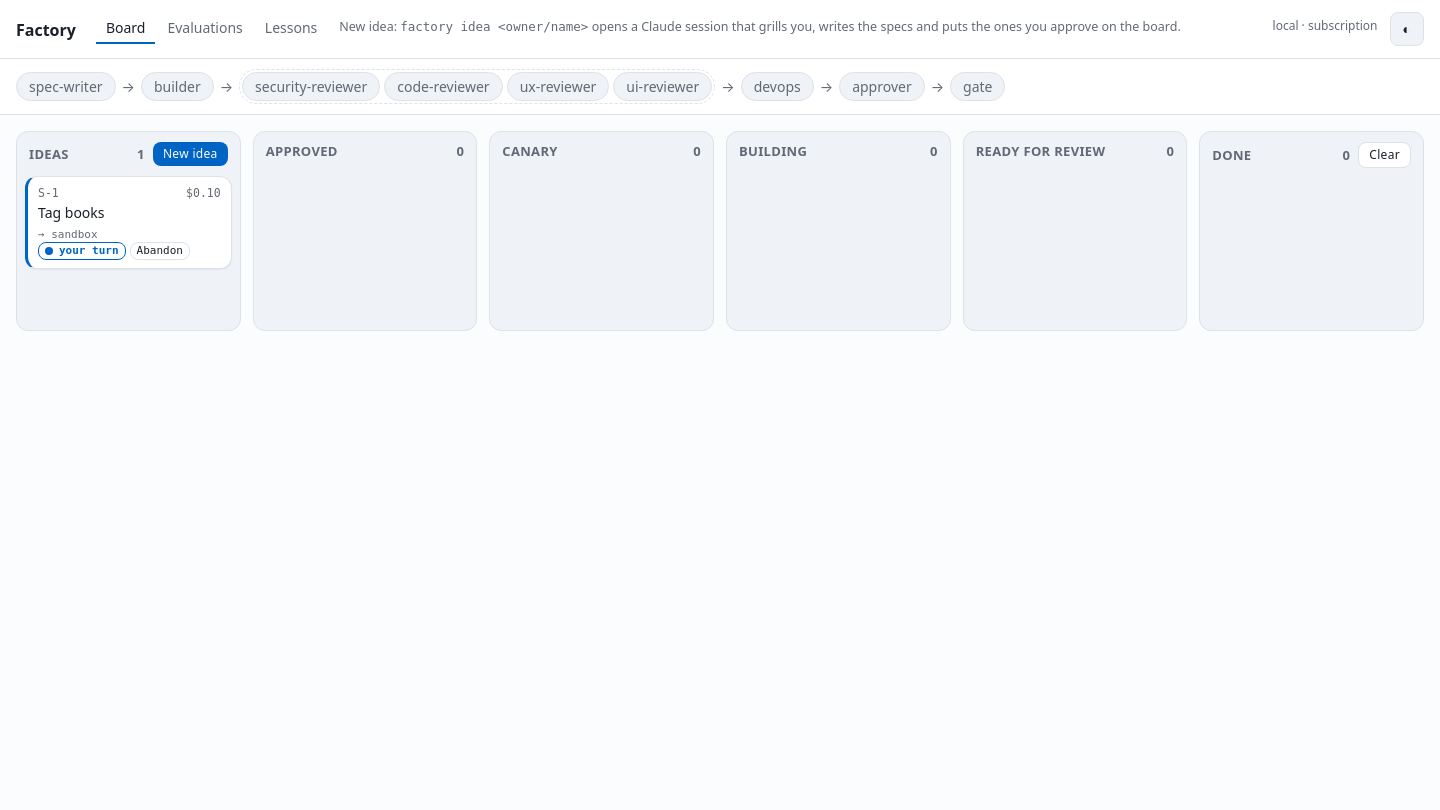
Test: an idea session › every spec rejected closes the session as failed
The image size is (1440, 810).
Click the element showing "S-1 $0.10 Tag books → sandbox your turn Abandon": (128,222) [25,176,232,269]
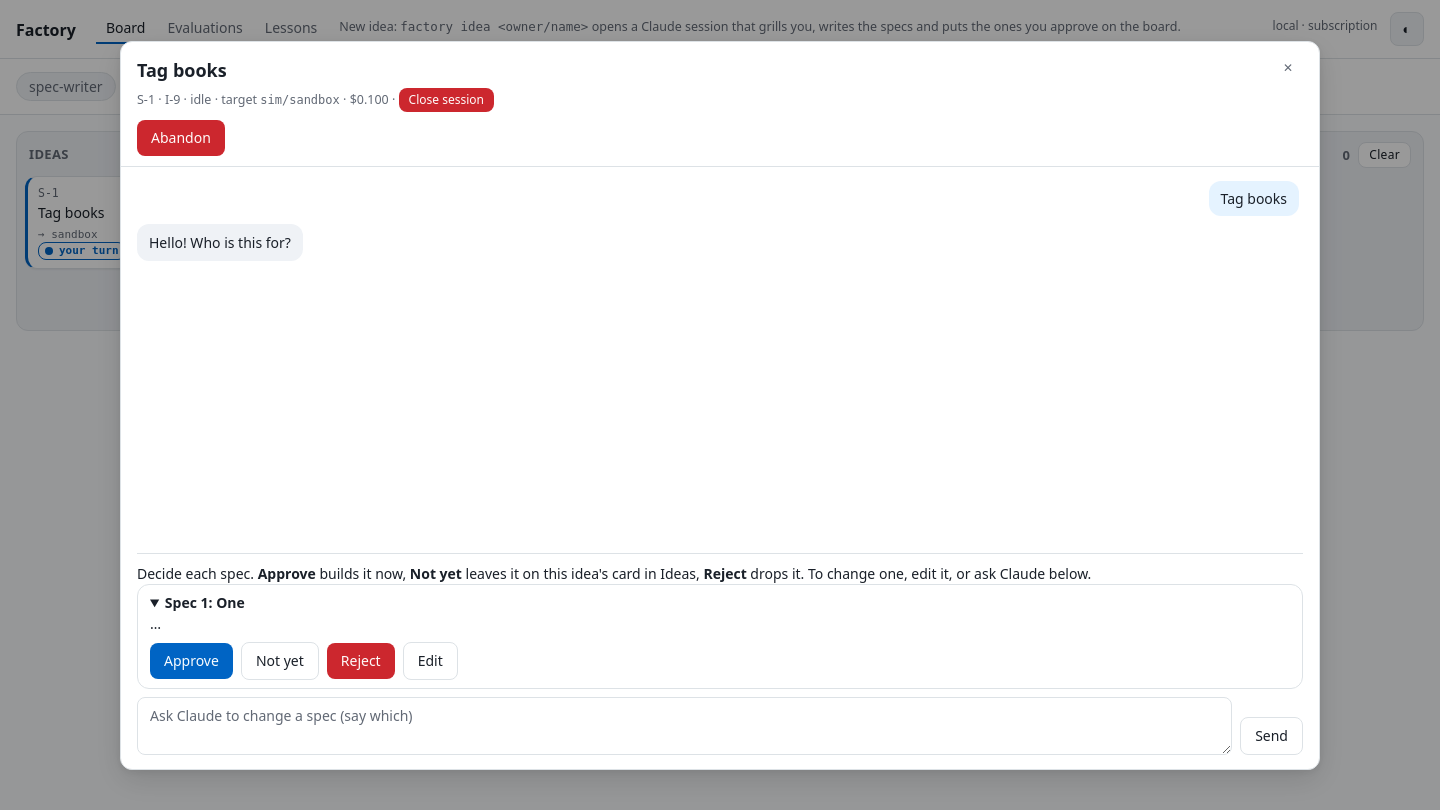
Click the button "Reject": (361,660) [327,642,395,678]
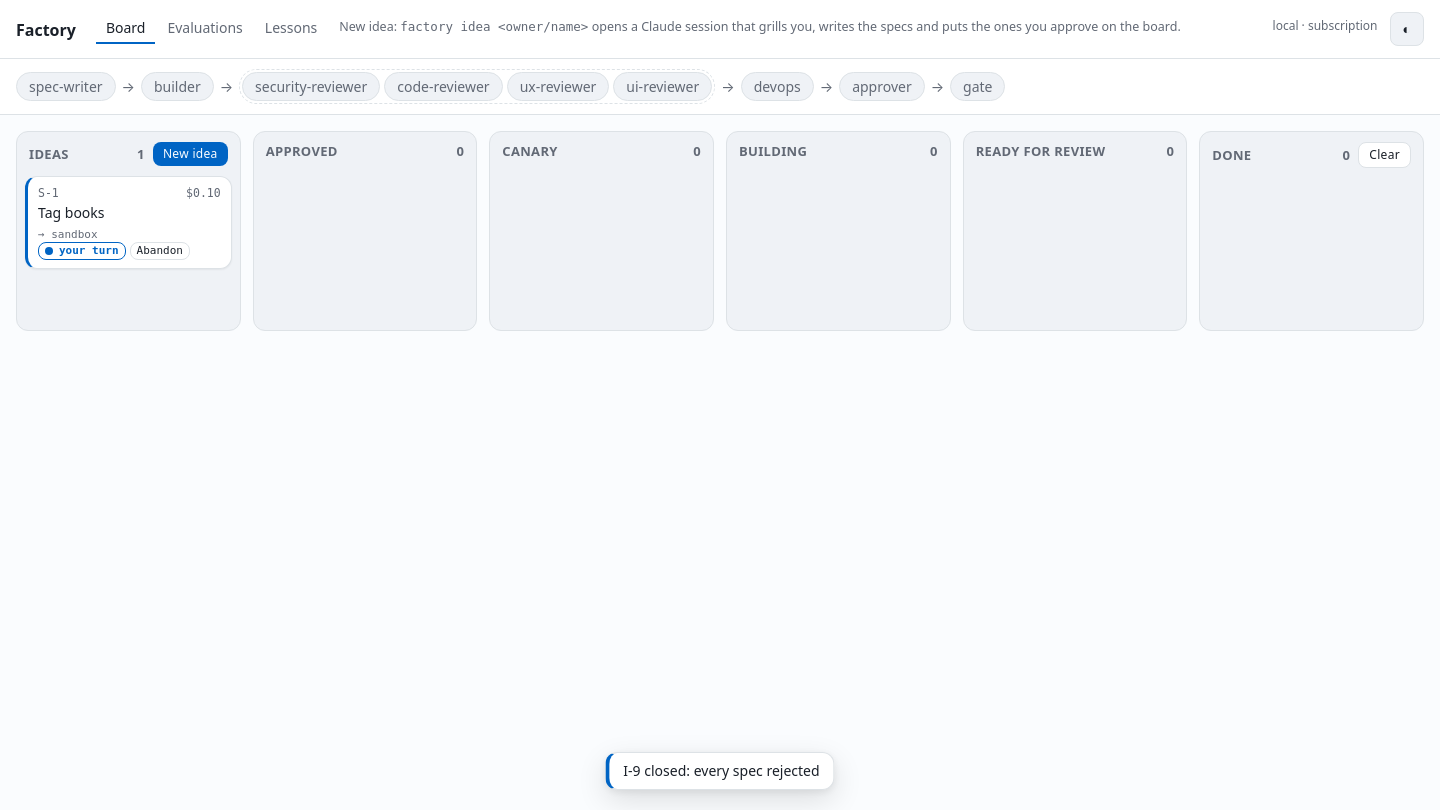
Expected: the message with id "toast" reads "I-9 closed: every spec rejected", [623,761,820,780]
